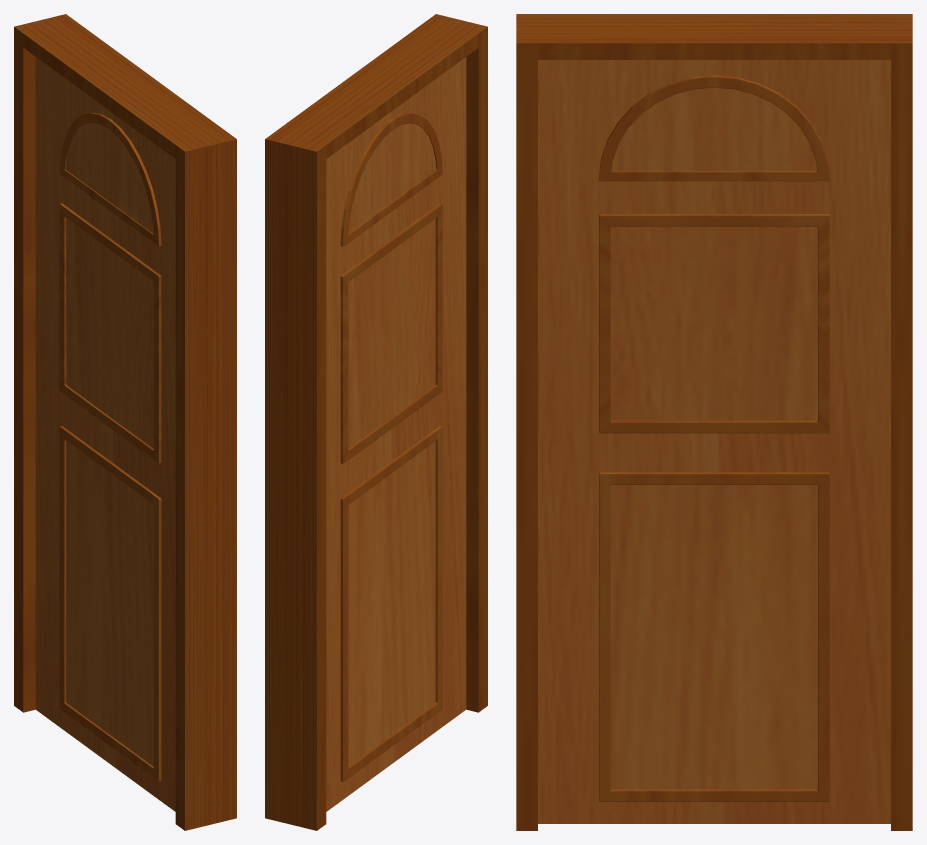
The model's file is door textured.fbx.
3 renders of one model, left to right at view 1: azimuth 30°, elevation 25°; view 2: azimuth 150°, elevation 25°; view 3: azimuth 270°, elevation 25°, orthographic. The views are drawn at different scales.
Visible parts, largest first — view 1: Door Frame.001, Door Detail.001, Door.001, Door Detail 2.001; view 2: Door Frame.001, Door Detail.001, Door.001, Door Detail 2.001; view 3: Door Detail.001, Door.001, Door Frame.001, Door Detail 2.001.
Boxes of the visible parts, <box> form: Door Frame.001: <box>14,14,236,830</box>; Door Detail.001: <box>59,112,161,781</box>; Door.001: <box>35,57,175,811</box>; Door Detail 2.001: <box>65,123,153,233</box>; Door Frame.001: <box>265,14,487,830</box>; Door Detail.001: <box>340,112,442,781</box>; Door.001: <box>326,57,466,811</box>; Door Detail 2.001: <box>348,123,436,233</box>; Door Detail.001: <box>598,75,829,801</box>; Door.001: <box>538,60,890,823</box>; Door Frame.001: <box>516,14,912,830</box>; Door Detail 2.001: <box>611,87,816,170</box>.
Size of the model in its own units: 292 by 3647 by 1664.
